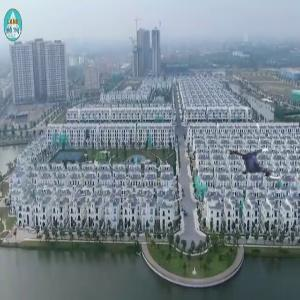drone: (232, 137, 287, 192)
